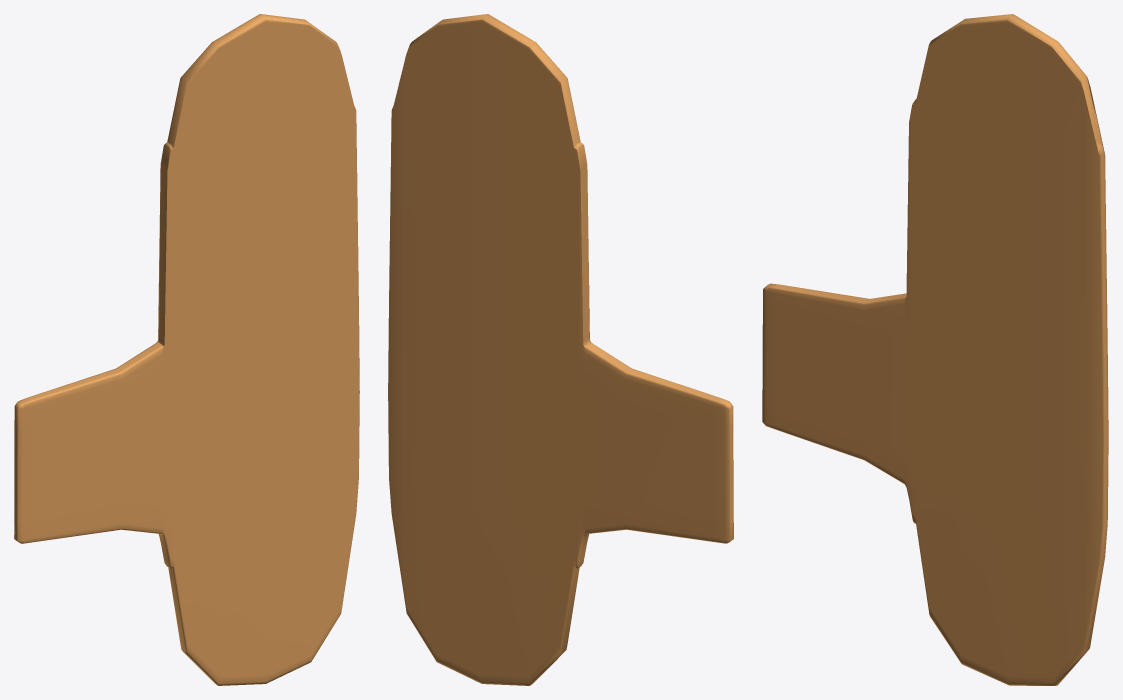
Rendered from GatemachineSRight.fbx.
3 views of the same model, side by side, from view 1: azimuth 30°, elevation 25°; view 2: azimuth 150°, elevation 25°; view 3: azimuth 330°, elevation 25° (orthographic).
Parts seen in each view (by area): view 1: GatemachineSRight; view 2: GatemachineSRight; view 3: GatemachineSRight.
Boxes of the visible parts, <box> form: GatemachineSRight: <box>14,14,359,685</box>; GatemachineSRight: <box>388,14,733,685</box>; GatemachineSRight: <box>762,14,1108,685</box>.
Bounding box in the file's own units: 73.76 × 137 × 2.57.
